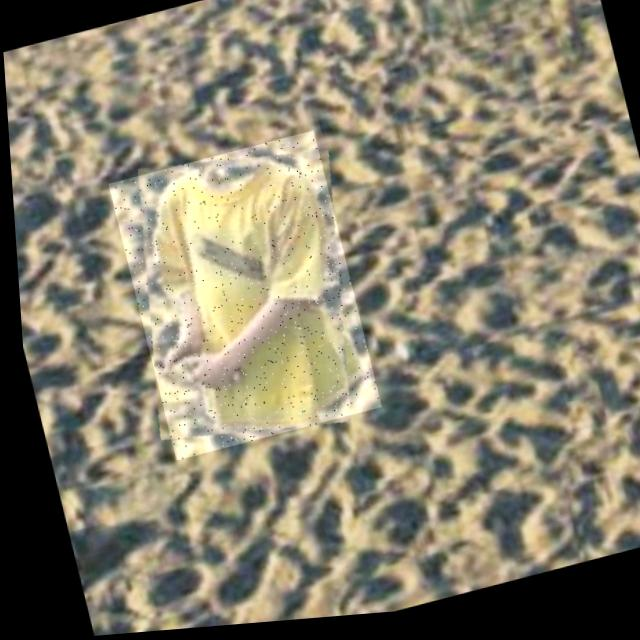Person in Rubble: (104, 132, 377, 465)
